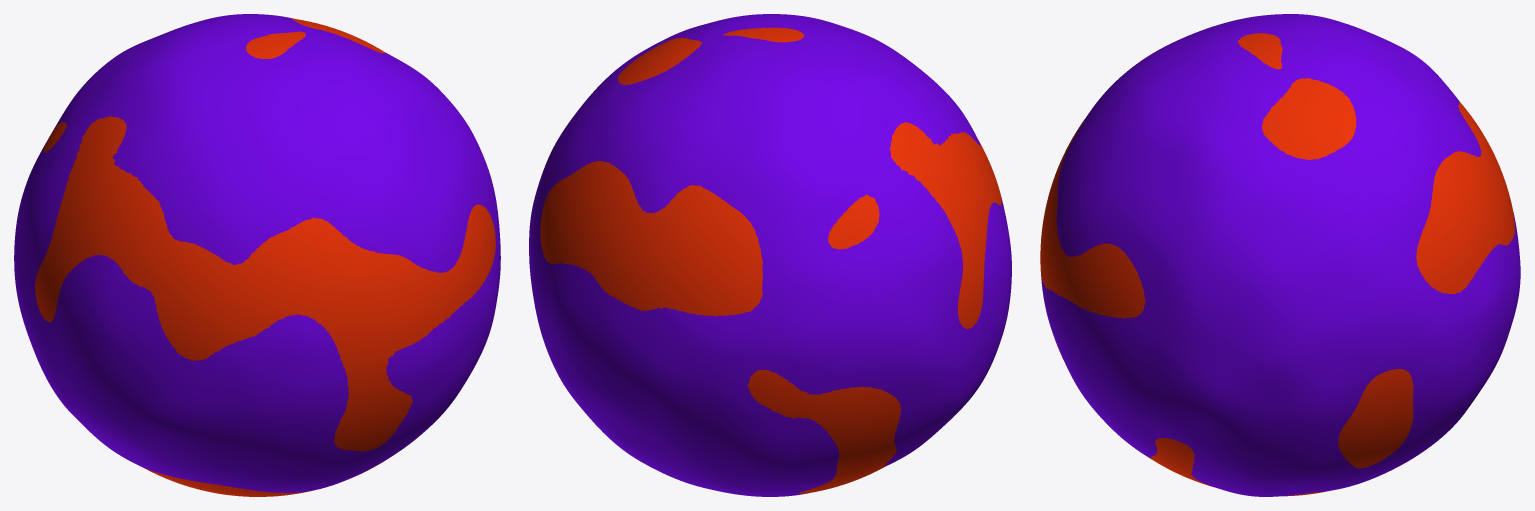
Rendered from EarthV2.fbx.
The picture shows the model from 3 angles, left to right: view 1: azimuth 30°, elevation 25°; view 2: azimuth 150°, elevation 25°; view 3: azimuth 270°, elevation 25°; orthographic projection.
Visible parts, largest first — view 1: EarthV2, EarthV2Lake; view 2: EarthV2, EarthV2Lake; view 3: EarthV2, EarthV2Lake.
Part boxes in pixels (bbox=[...]): EarthV2: bbox=[14, 14, 500, 492]; EarthV2Lake: bbox=[35, 18, 495, 496]; EarthV2: bbox=[529, 14, 1011, 496]; EarthV2Lake: bbox=[540, 27, 1003, 493]; EarthV2: bbox=[1041, 14, 1520, 496]; EarthV2Lake: bbox=[1040, 33, 1515, 496].
Size of the model in its own units: 15484 by 15364 by 15414.
